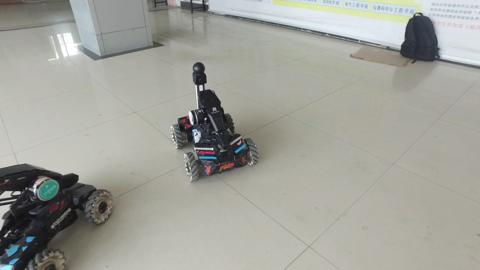bag: (388, 10, 445, 71)
chariot: (160, 59, 258, 188)
